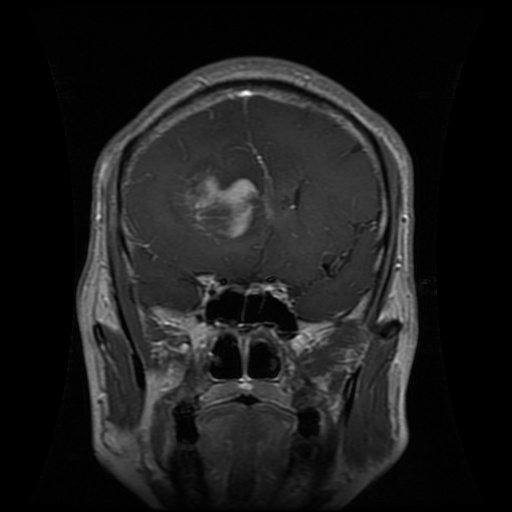glioma: (180, 161, 266, 240)
